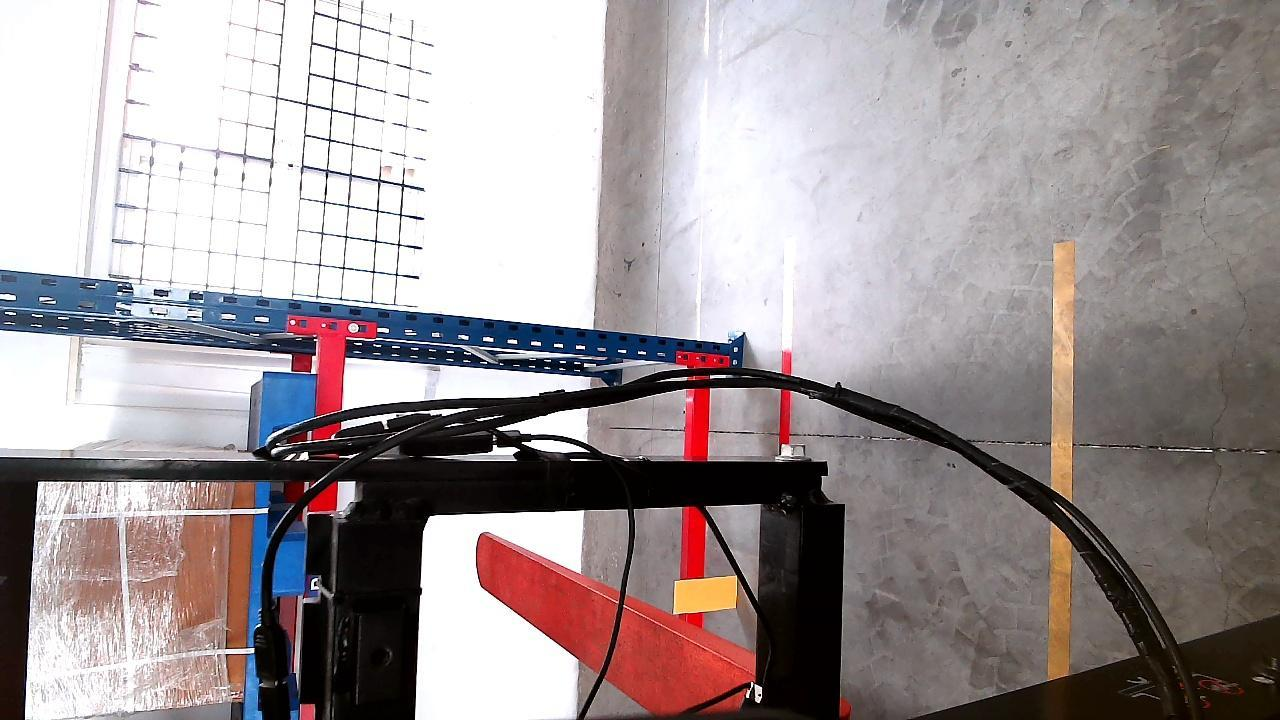yellow_line: (1047, 235, 1079, 689)
